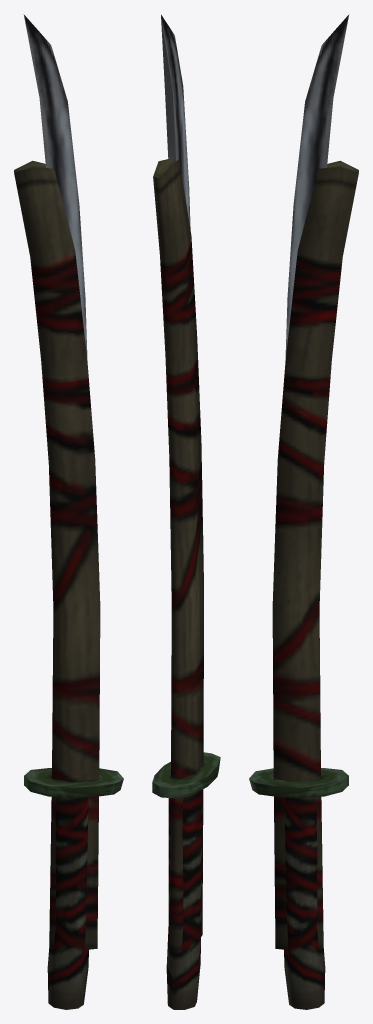
File: WP_2H_Nodachi02.FBX
3 renders of one model, left to right at view 1: azimuth 90°, elevation 25°; view 2: azimuth 150°, elevation 25°; view 3: azimuth 270°, elevation 25°, orthographic.
Visible parts, largest first — view 1: WP_2H_NdachiScabbard02, WP_2H_Nodachi02; view 2: WP_2H_NdachiScabbard02, WP_2H_Nodachi02; view 3: WP_2H_NdachiScabbard02, WP_2H_Nodachi02.
Part boxes in pixels (x1=…): WP_2H_NdachiScabbard02: x1=14, y1=160, x2=100, y2=949; WP_2H_Nodachi02: x1=23, y1=14, x2=123, y2=1009; WP_2H_NdachiScabbard02: x1=153, y1=159, x2=203, y2=952; WP_2H_Nodachi02: x1=152, y1=14, x2=220, y2=1009; WP_2H_NdachiScabbard02: x1=272, y1=160, x2=358, y2=949; WP_2H_Nodachi02: x1=249, y1=14, x2=349, y2=1009.
Size of the model in its own units: 7.22 by 158 by 15.9.
